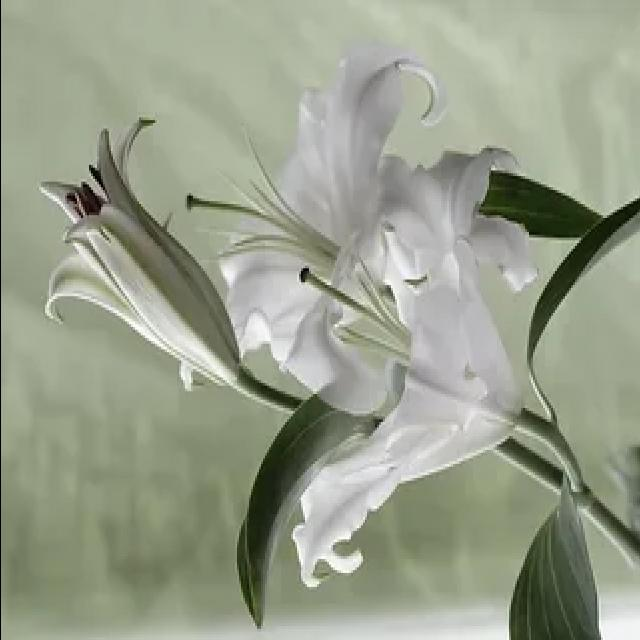lily: (250, 128, 546, 592)
